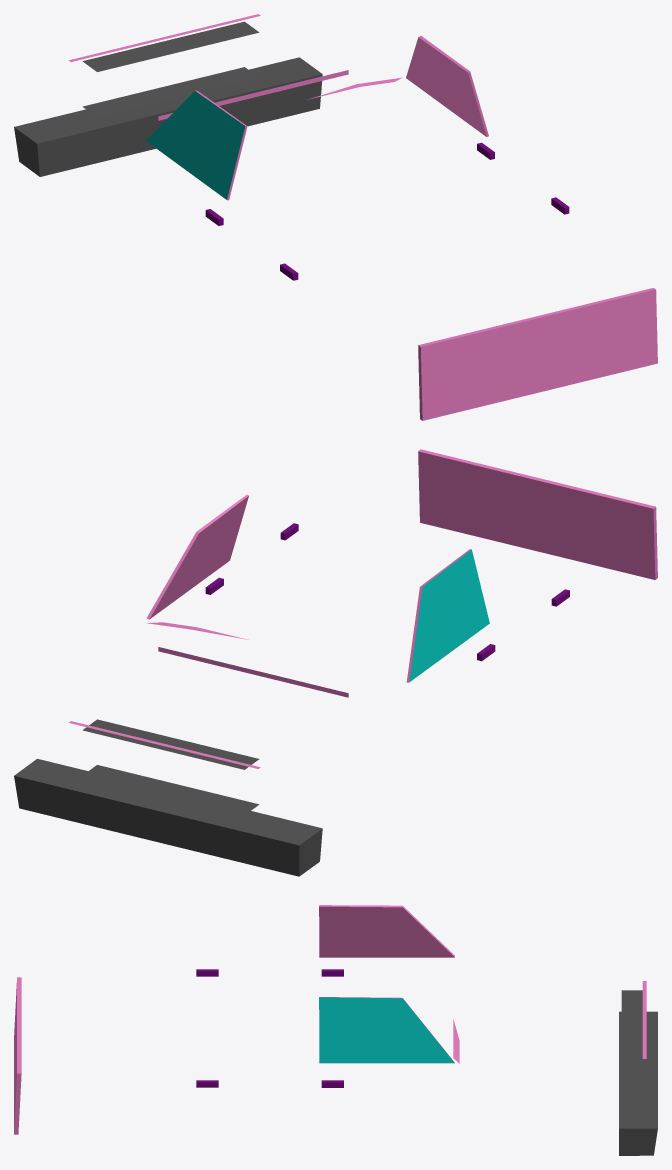
The model's file is object_3_lev1_lev2.glb.
3 views of the same model, one above another, from view 1: azimuth 30°, elevation 25°; view 2: azimuth 150°, elevation 25°; view 3: azimuth 270°, elevation 25° (orthographic). The views are drawn at different scales.
Visible parts, largest first — view 1: object_3_lev1_lev2; view 2: object_3_lev1_lev2; view 3: object_3_lev1_lev2.
Part boxes in pixels (box(x1,y1,x2,y2)): object_3_lev1_lev2: box(14, 14, 657, 420); object_3_lev1_lev2: box(14, 449, 657, 876); object_3_lev1_lev2: box(14, 905, 657, 1155).
Bounding box in the file's own units: 1.84 × 1.08 × 4.29.
1 material, 1 textured.
